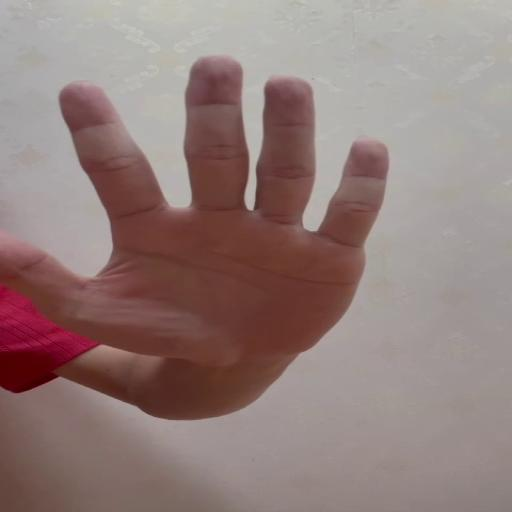open_palm: (0, 53, 393, 360)
